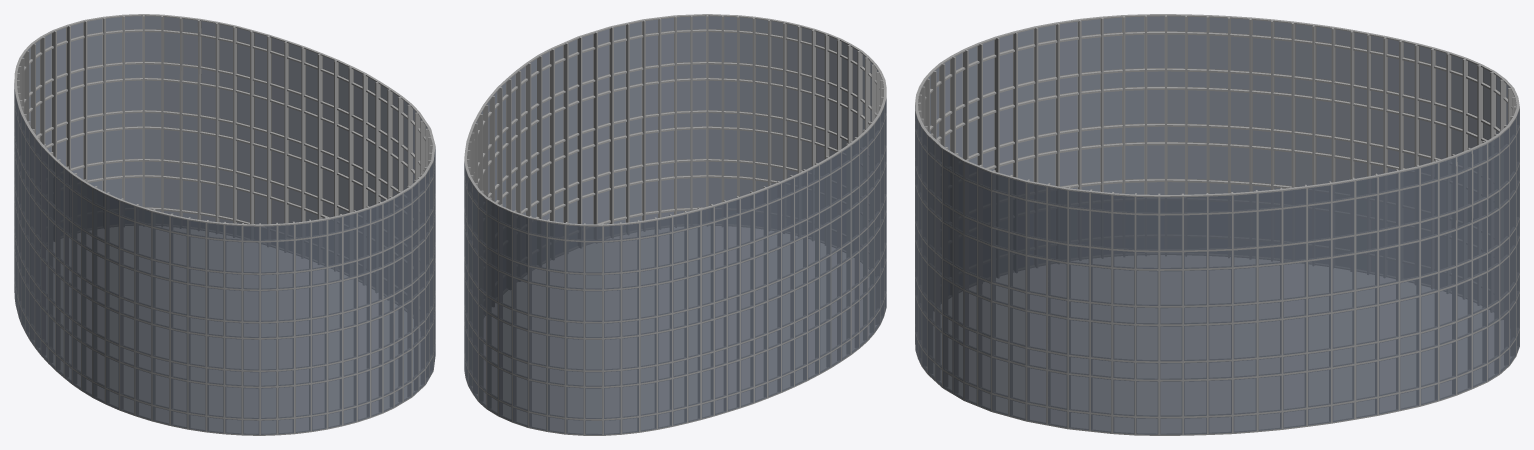
File: build_B.fbx
The picture shows the model from 3 angles, left to right: view 1: azimuth 30°, elevation 25°; view 2: azimuth 150°, elevation 25°; view 3: azimuth 270°, elevation 25°; orthographic projection. The views are drawn at different scales.
Parts seen in each view (by area): view 1: polySurface6829, polySurface7514, polySurface7529, polySurface8215; view 2: polySurface6829, polySurface7514, polySurface7529, polySurface8215; view 3: polySurface6829, polySurface7514, polySurface7529, polySurface8215.
Boxes of the visible parts, x1,y1,x2,y2 form: polySurface6829: (14, 16, 435, 434); polySurface7514: (14, 14, 435, 435); polySurface7529: (14, 14, 435, 435); polySurface8215: (29, 16, 425, 224); polySurface6829: (464, 16, 886, 434); polySurface7514: (464, 14, 886, 435); polySurface7529: (464, 14, 886, 435); polySurface8215: (477, 16, 871, 223); polySurface6829: (915, 16, 1519, 434); polySurface7514: (915, 14, 1519, 435); polySurface7529: (915, 14, 1519, 435); polySurface8215: (923, 16, 1514, 252).
Bounding box in the file's own units: 2188 × 1342 × 3068.
